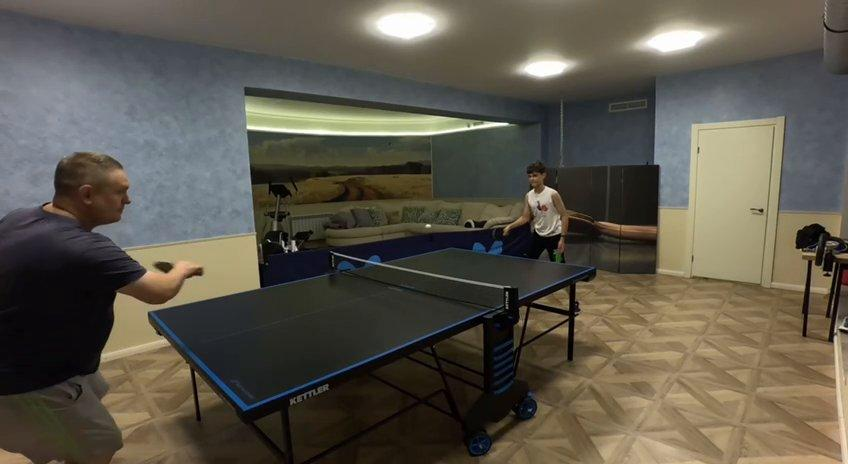Ball: (424, 223, 433, 230)
Net: (327, 251, 515, 308)
Player1: (507, 162, 568, 260)
Player2: (0, 152, 146, 463)
Table: (149, 247, 594, 409)
